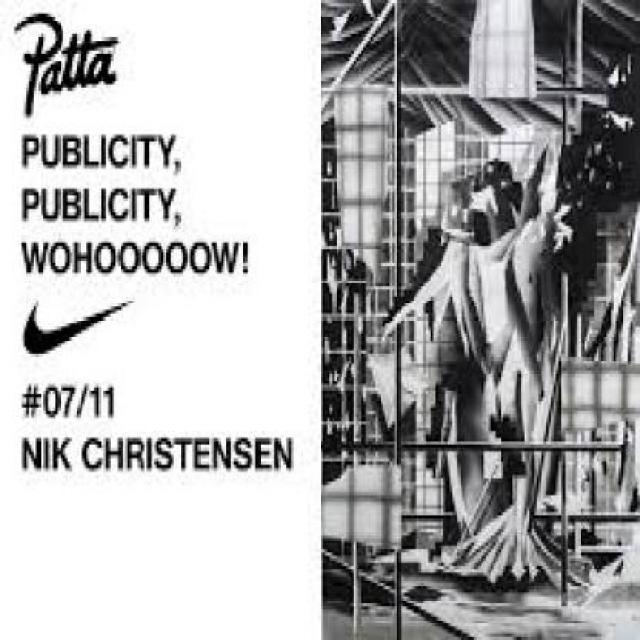Nike: (15, 289, 135, 351)
